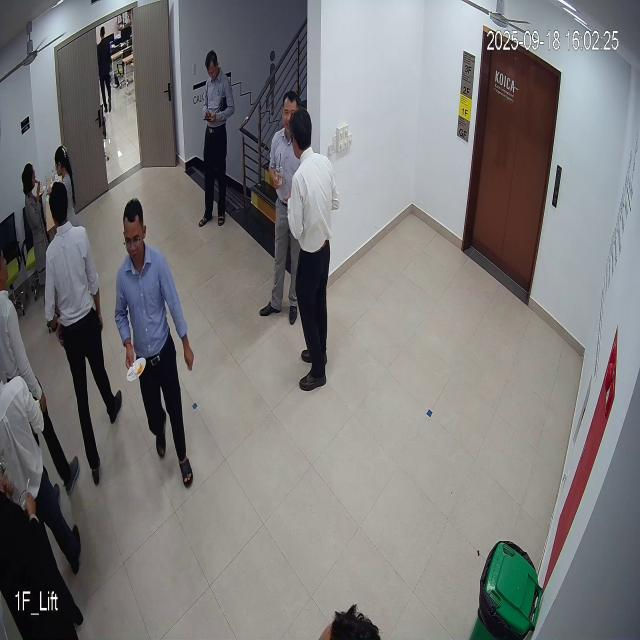face: (121, 197, 148, 267)
